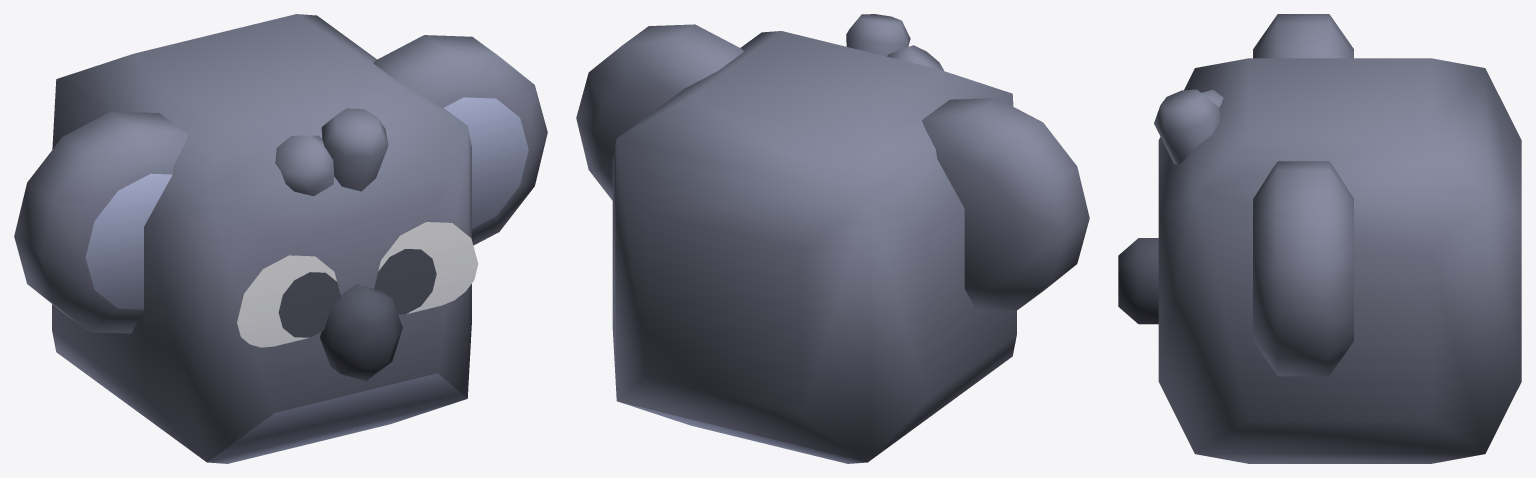
The model's file is cube_koala.glb.
3 renders of one model, left to right at view 1: azimuth 30°, elevation 25°; view 2: azimuth 150°, elevation 25°; view 3: azimuth 270°, elevation 25°, orthographic. The views are drawn at different scales.
Visible parts, largest first — view 1: body; view 2: body; view 3: body.
Boxes of the visible parts, box(x1,y1,x2,y2) form: body: box(14, 14, 547, 463); body: box(576, 14, 1089, 463); body: box(1118, 14, 1521, 463).
Bounding box in the file's own units: 1.94 × 1.28 × 1.39.
Materials: 1 (1 with a texture image).
